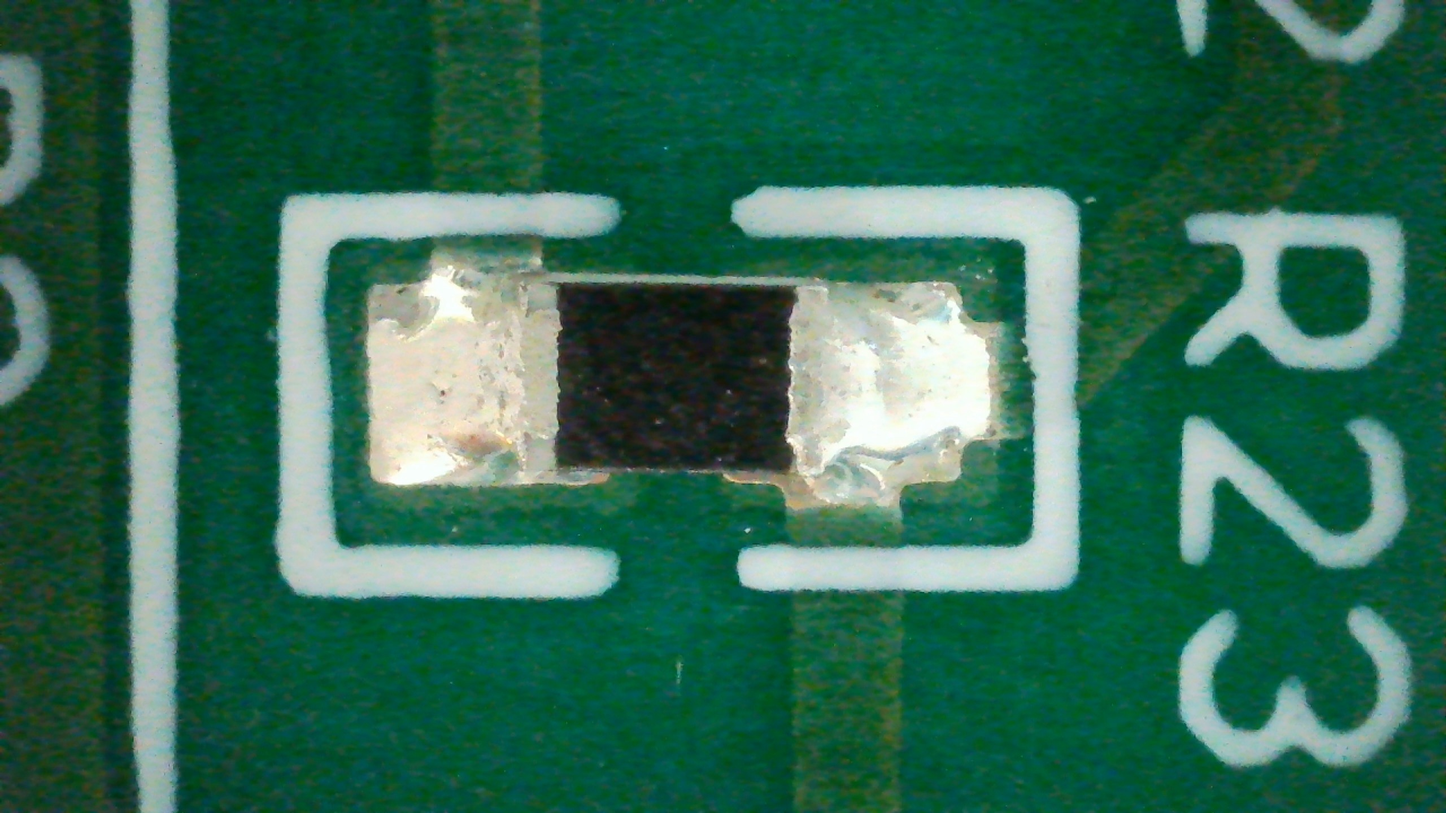OK: (367, 251, 1005, 508)
